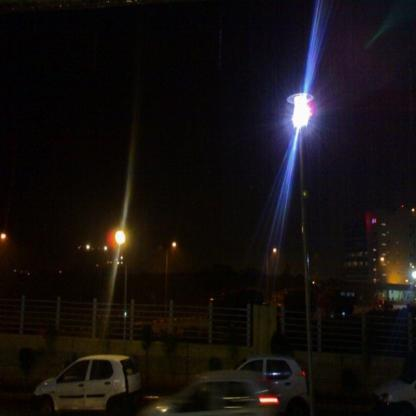Car: (35, 354, 143, 416), (142, 370, 282, 416), (236, 356, 306, 409), (374, 376, 415, 416)
